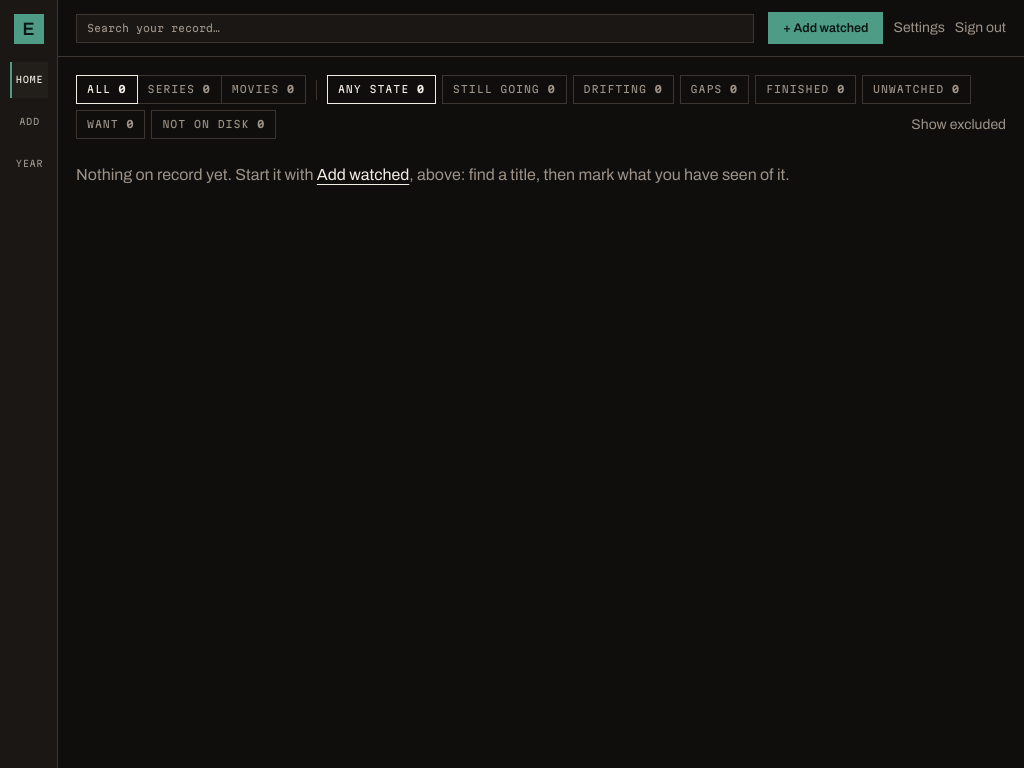
Test case: the shell › signs the owner out through the API and asks again who is there
Click the button "Sign out" at (980, 28), box [955,18,1006,38]
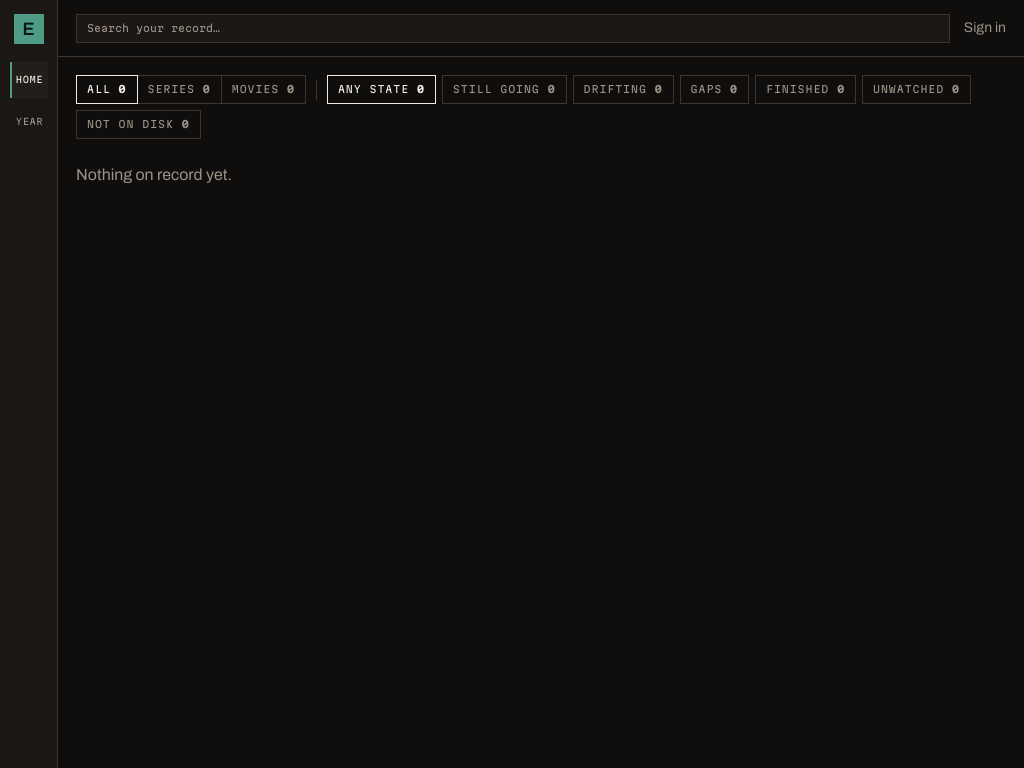
Expected: the link "Sign in" is shown, [964,18,1006,38]
